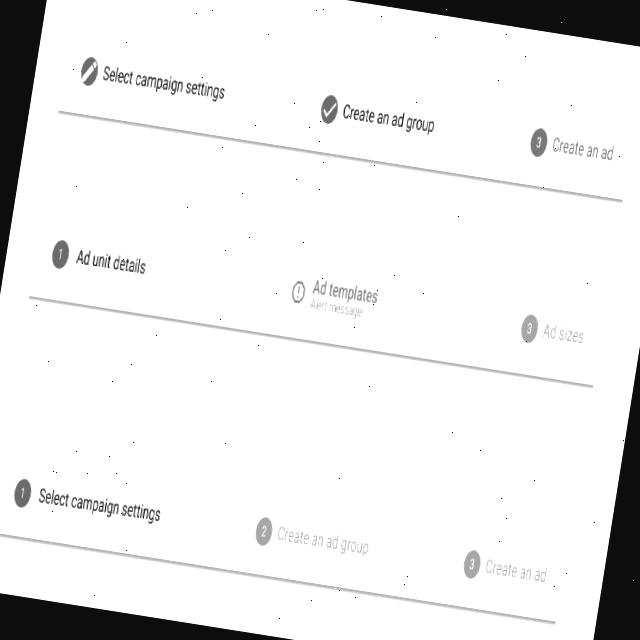VStepper: (28, 202, 610, 390), (58, 23, 638, 204), (0, 445, 571, 625)
